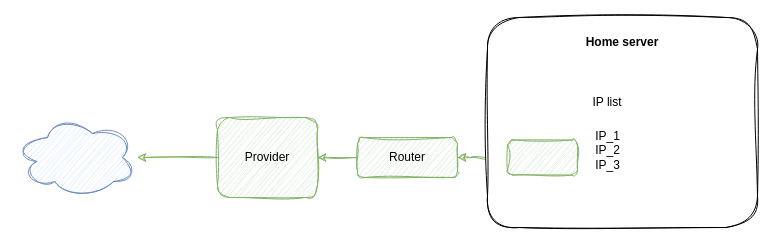
Image size: 775x245. Some labels were removed from this diagram. The shapes that lost their labels are listed below. From the top down, each one's centre as x and y in pixels, then its label:
At point 77,157: "IP_1".
At point 542,157: "NIC".
